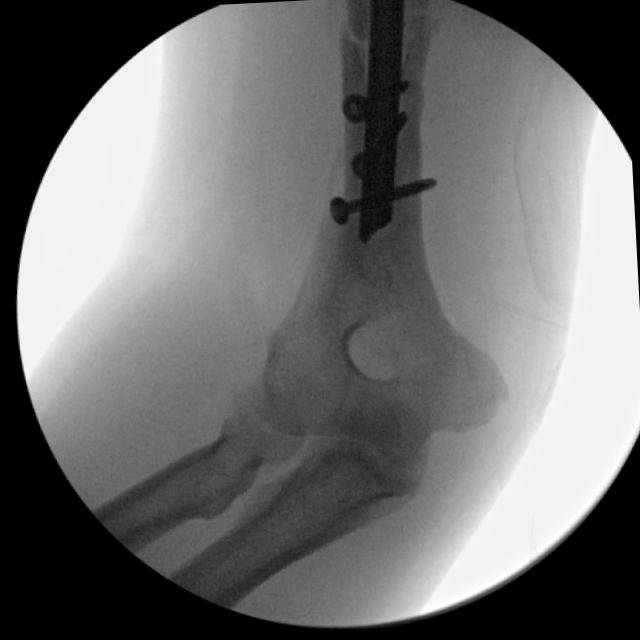humerus fracture: (311, 1, 395, 89)
